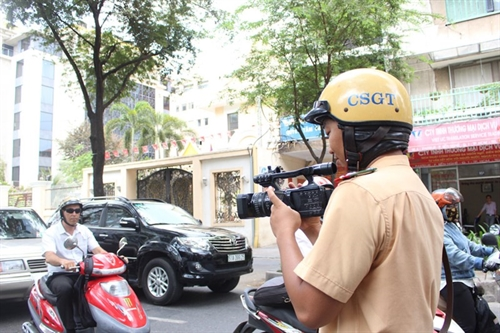police: (255, 62, 459, 331)
